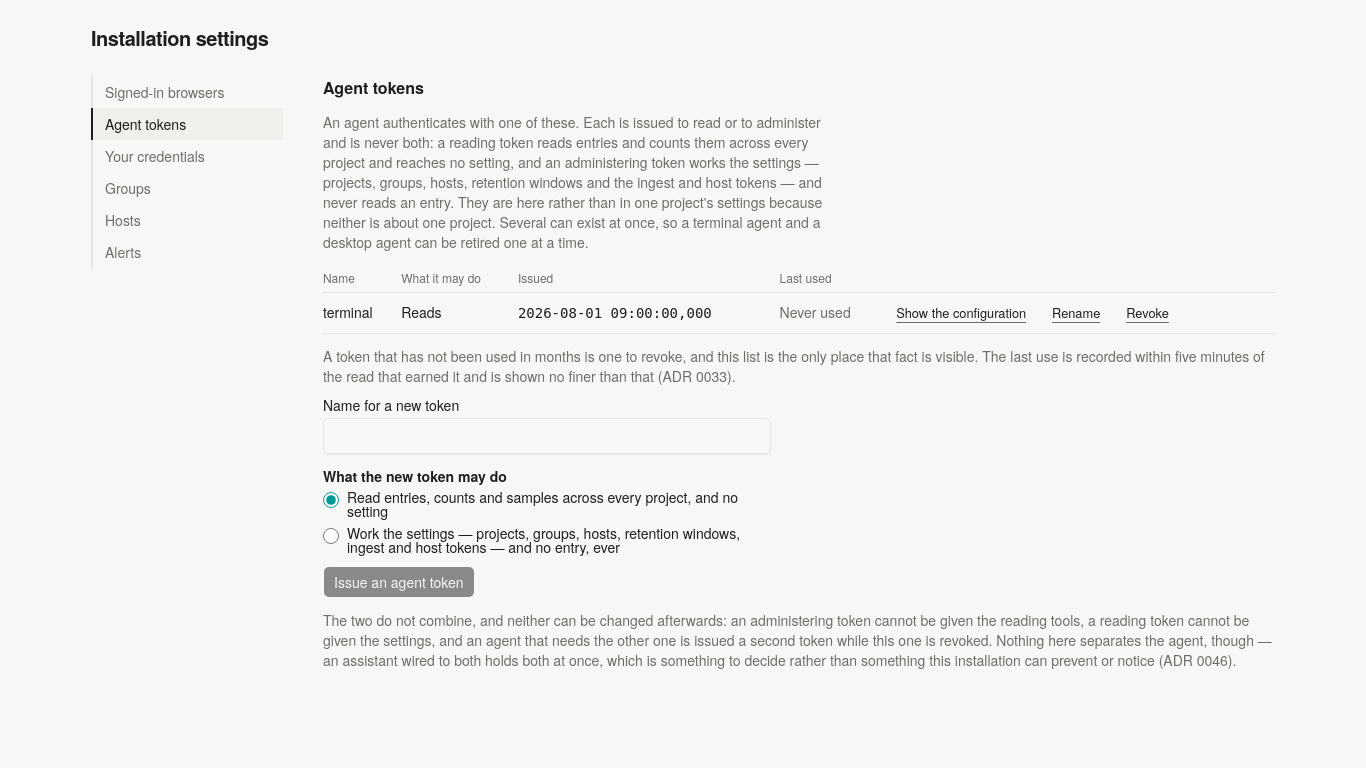
Scenario: the agent tokens › reads a token back, because that and being able to use it are one errand
Click the button "Show the configuration" at (961, 313), box [885,299,1037,327]
(page scrolled)
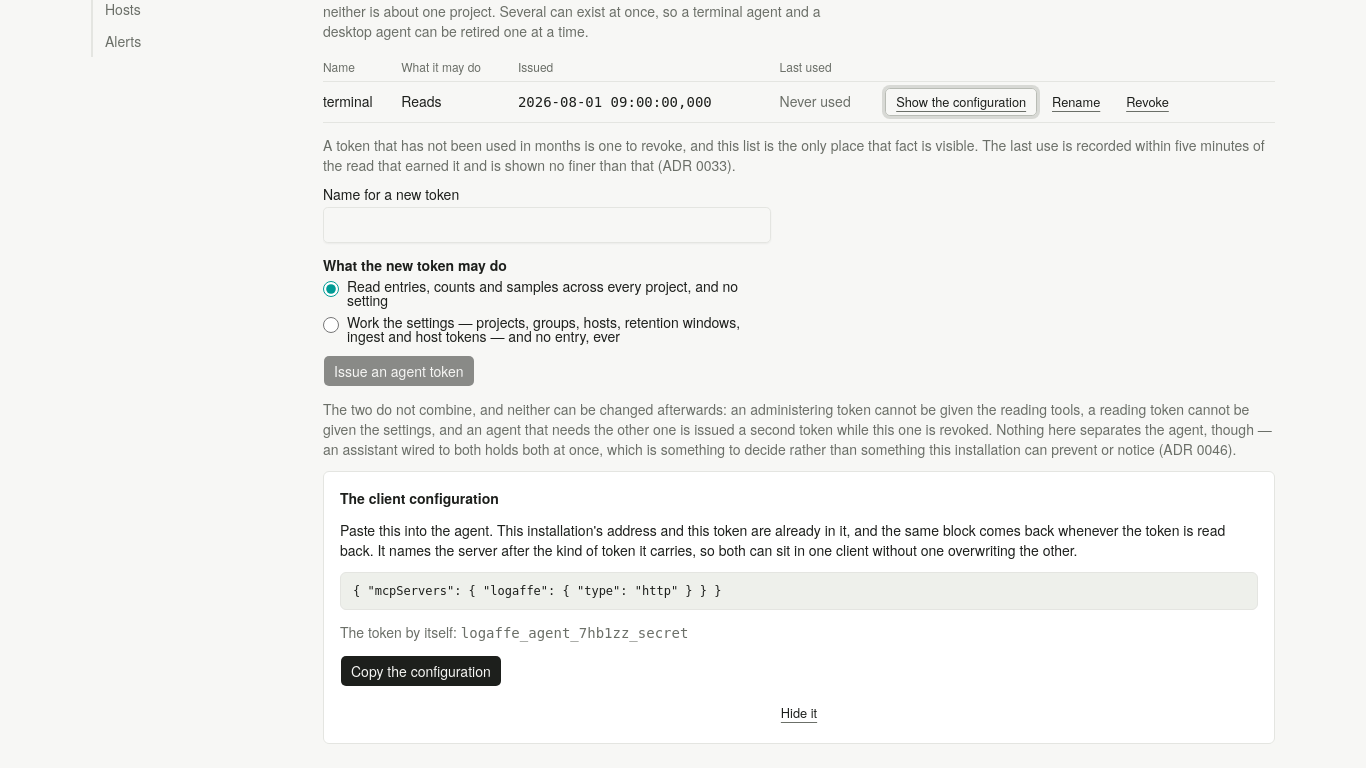
Now the text "{ \"mcpServers\": { \"logaffe\": { \"type\": \"http\" } } }" is shown, box [340,572,1258,610]
